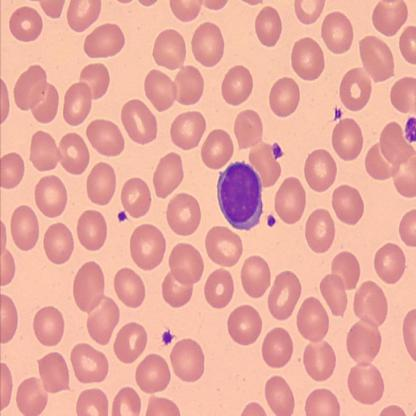Lymphocyte: (216, 160, 264, 231)
